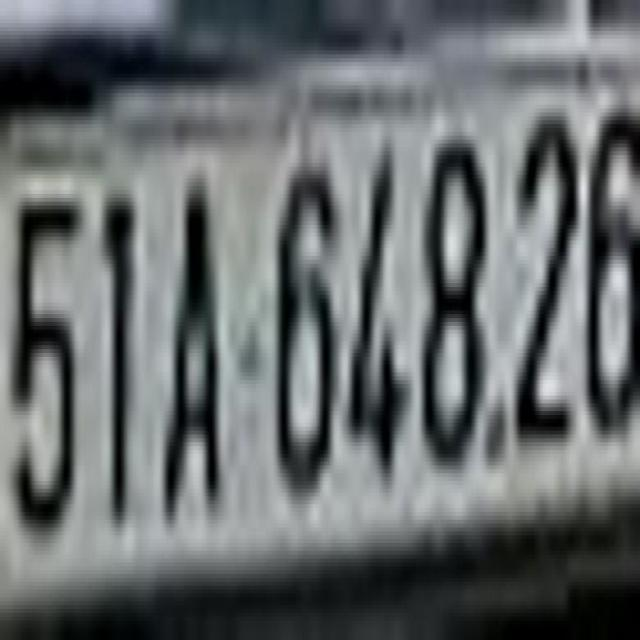1: (100, 194, 134, 520)
2: (516, 109, 569, 454)
4: (344, 140, 398, 469)
5: (16, 186, 78, 539)
6: (273, 186, 333, 512), (593, 97, 640, 450)
8: (431, 143, 484, 466)
A: (162, 178, 222, 524)
